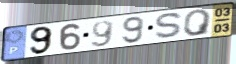6: (58, 22, 83, 52)
9: (89, 19, 118, 48), (28, 26, 56, 56), (121, 15, 146, 45)
Q: (183, 8, 214, 37)
S: (153, 12, 186, 40)
